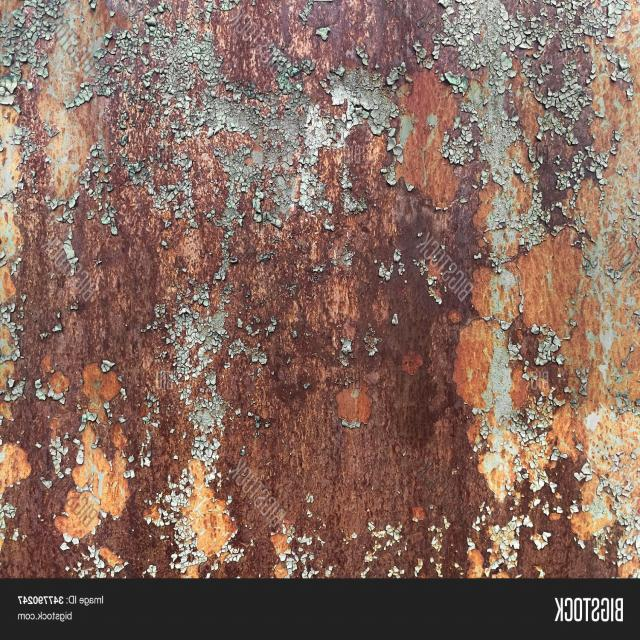Corrosion: (228, 381, 470, 548), (215, 301, 457, 468), (226, 481, 275, 546)
